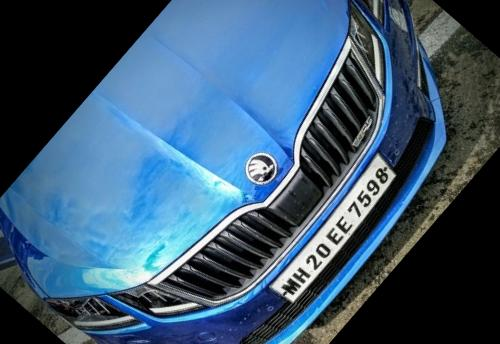plate: (263, 148, 415, 315)
